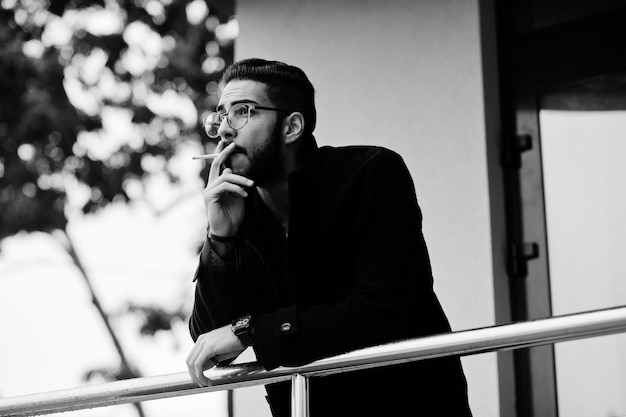cigarette: (190, 152, 219, 160)
